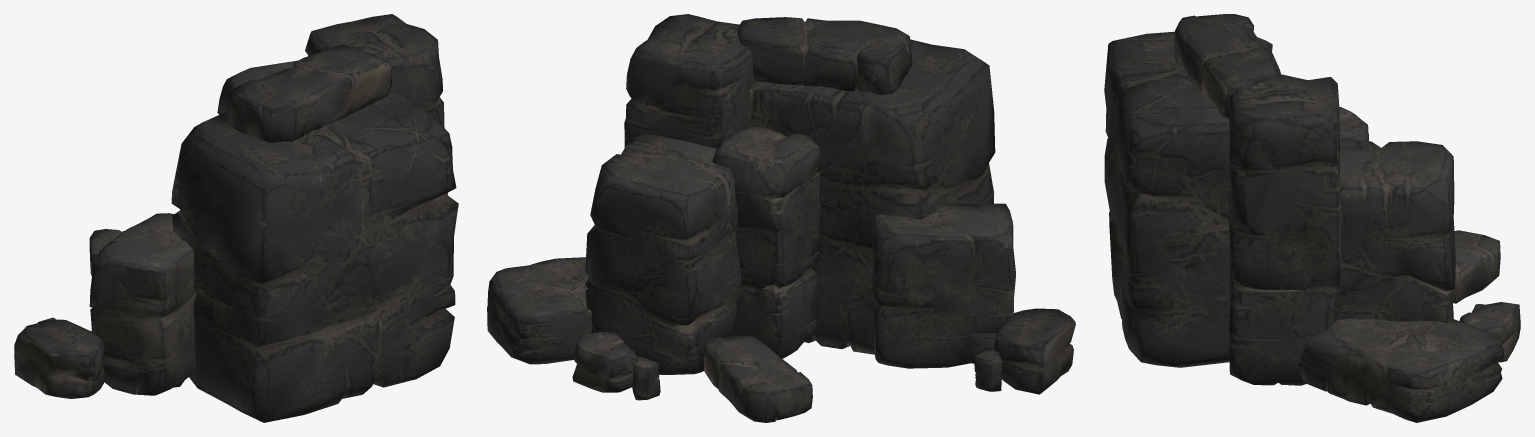
The model's file is blocky_rocks.glb.
The picture shows the model from 3 angles, left to right: view 1: azimuth 30°, elevation 25°; view 2: azimuth 150°, elevation 25°; view 3: azimuth 270°, elevation 25°; orthographic projection.
Visible parts, largest first — view 1: rock4_1, rock6, rock1_1, rock5_1, rock2_1, rock4, rock1; view 2: rock4_1, rock4, rock6, rock5, rock5_1, rock1_1, rock7, rock1, rock2_1, rock2, rock3_1, rock3; view 3: rock4_1, rock5_1, rock4, rock7, rock1_1, rock1, rock2, rock5.
Part boxes in pixels (bbox=[...]): rock4_1: bbox=[171, 91, 458, 422]; rock6: bbox=[89, 213, 196, 395]; rock1_1: bbox=[228, 45, 392, 142]; rock5_1: bbox=[305, 14, 444, 127]; rock2_1: bbox=[14, 319, 104, 398]; rock4: bbox=[217, 60, 297, 114]; rock1: bbox=[89, 229, 123, 275]; rock4_1: bbox=[748, 39, 995, 354]; rock4: bbox=[585, 133, 741, 374]; rock6: bbox=[871, 203, 1015, 368]; rock5: bbox=[712, 125, 820, 358]; rock5_1: bbox=[624, 14, 756, 148]; rock1_1: bbox=[737, 17, 912, 94]; rock7: bbox=[487, 257, 593, 364]; rock1: bbox=[704, 334, 812, 422]; rock2_1: bbox=[994, 308, 1075, 394]; rock2: bbox=[572, 331, 638, 392]; rock3_1: bbox=[974, 348, 1002, 391]; rock3: bbox=[632, 356, 660, 400]; rock4_1: bbox=[1104, 31, 1281, 367]; rock5_1: bbox=[1228, 74, 1342, 385]; rock4: bbox=[1335, 141, 1455, 322]; rock7: bbox=[1298, 318, 1504, 422]; rock1_1: bbox=[1174, 14, 1278, 118]; rock1: bbox=[1453, 230, 1500, 303]; rock2: bbox=[1459, 302, 1520, 362]; rock5: bbox=[1339, 107, 1368, 149].
Bounding box in the file's own units: 1363 × 768 × 1016.
Materials: 1 (1 with a texture image).
